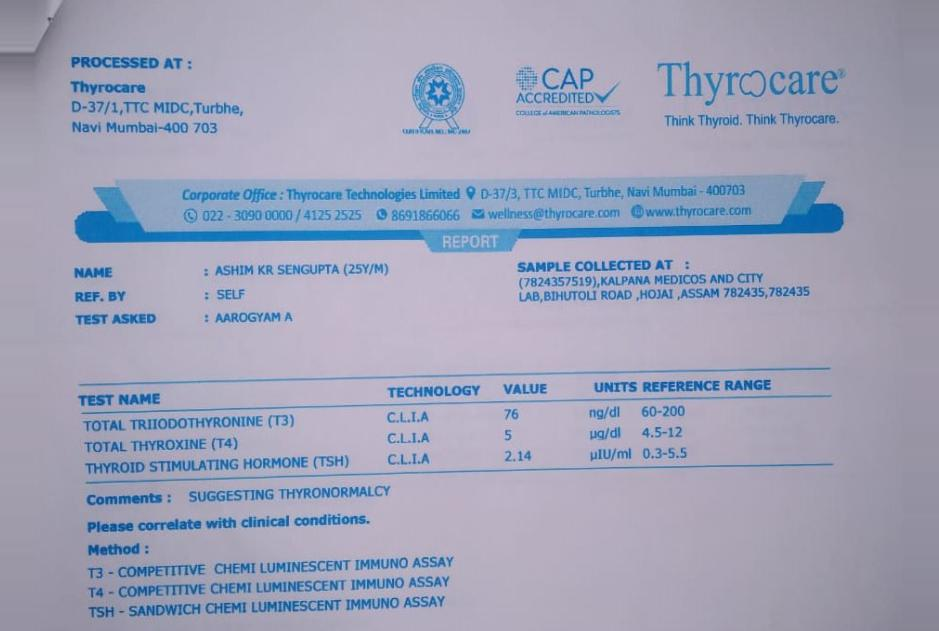Reference Range: (635, 397, 694, 468)
Test Name: (76, 408, 357, 481)
Units: (582, 397, 637, 469)
Value: (495, 401, 540, 472)
